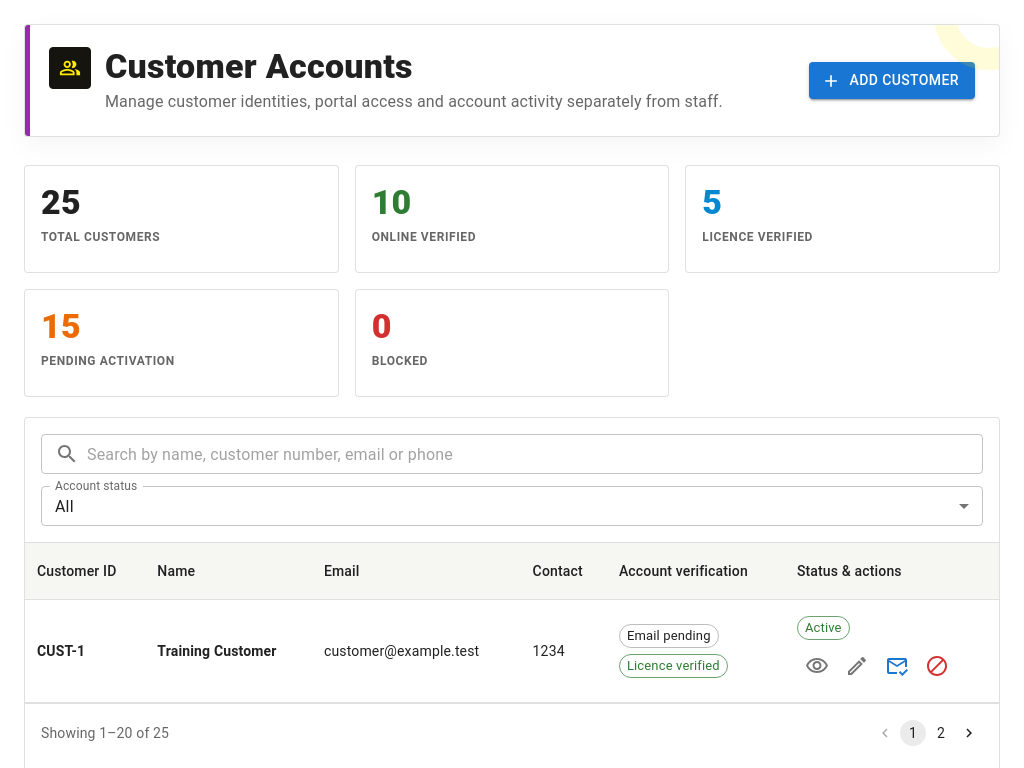
retains failed customer edits {"isAxiosError":true,"response":{"data":{"errors":{"email":["Invalid email."]}}}}
Later steps or results of the test are not shown.
Expected: the text "Training Customer" is shown, [145,600,312,703]
Click the button named "Edit customer" at (857,666), box [837,646,877,686]
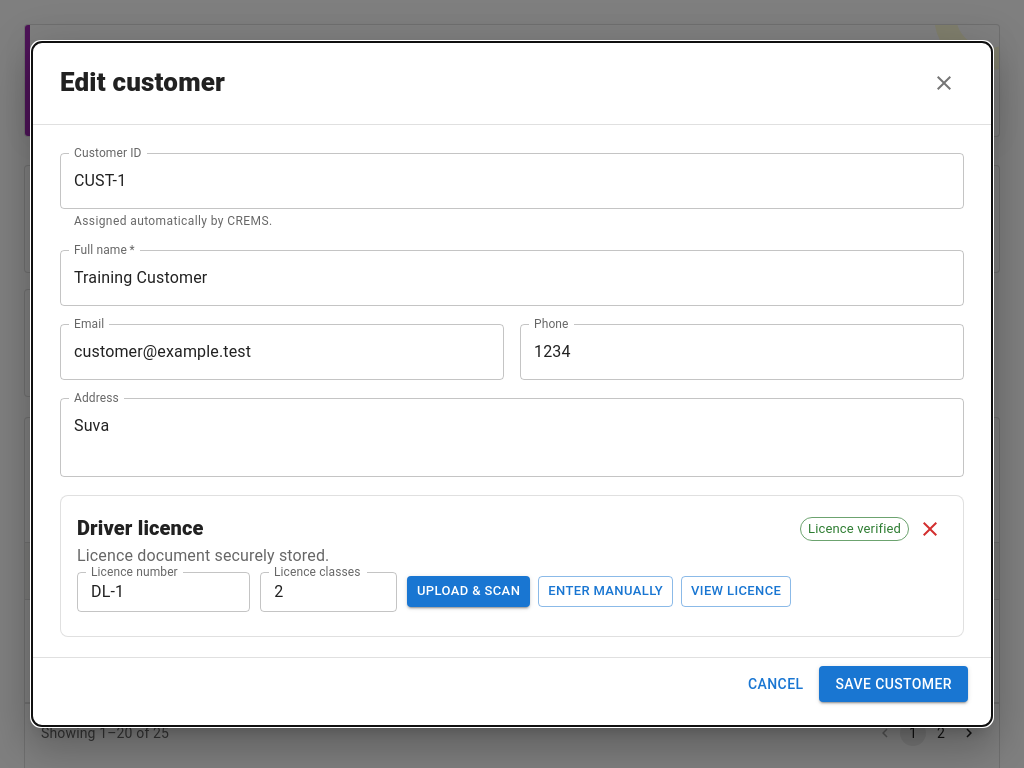
Replace the text in the field labelled "Full name *" with "Unsaved customer" at (512,278), box [60,250,964,306]
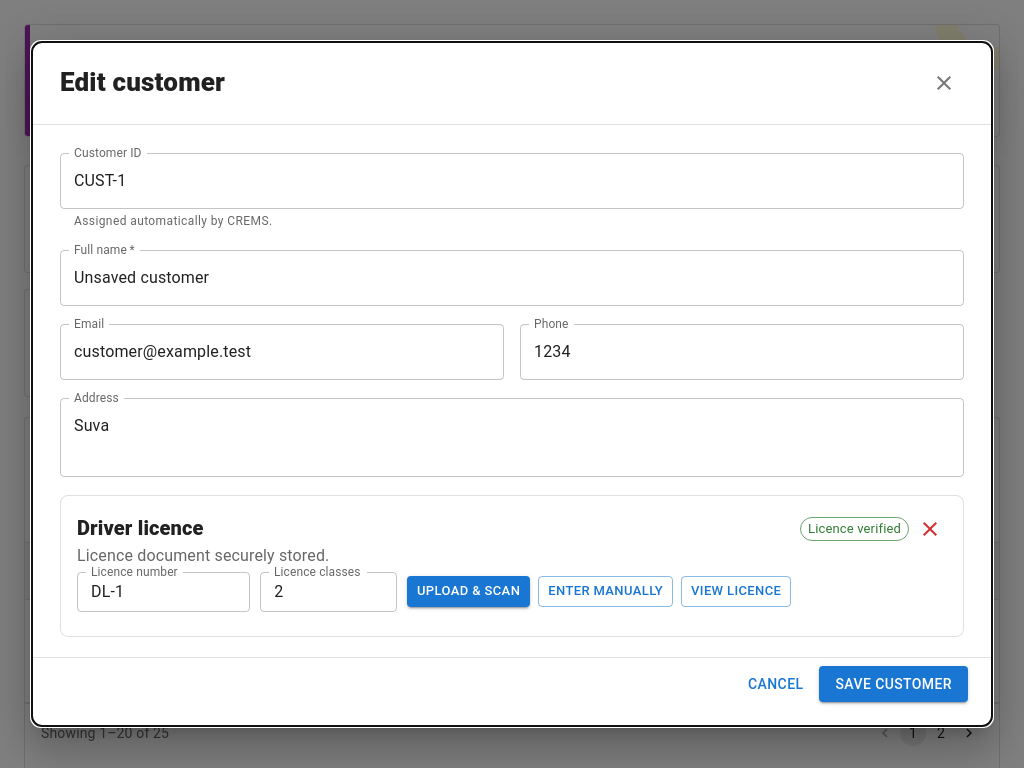
Click the button "Save customer" at (894,684), box [820,666,968,702]
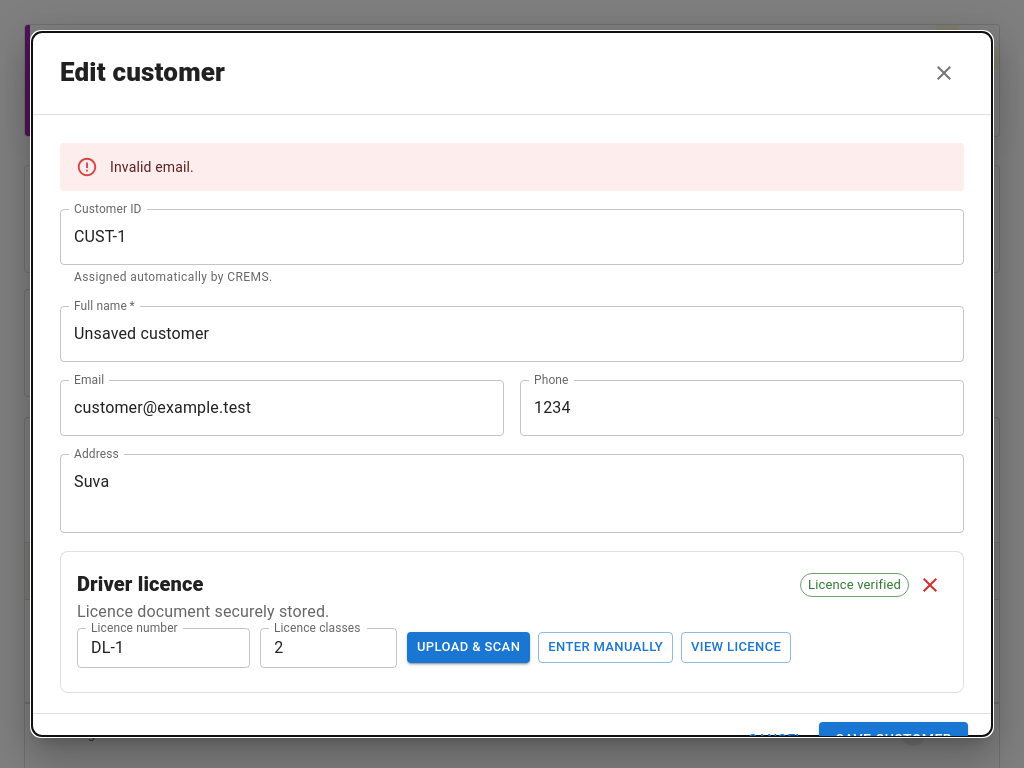
Expected: the text "Invalid email." is shown, [110,157,194,177]
